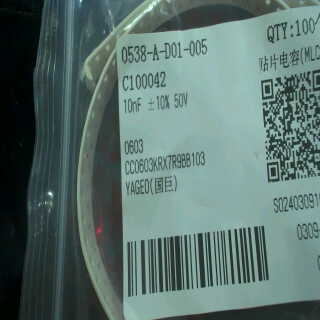10nF: (121, 97, 147, 113)
